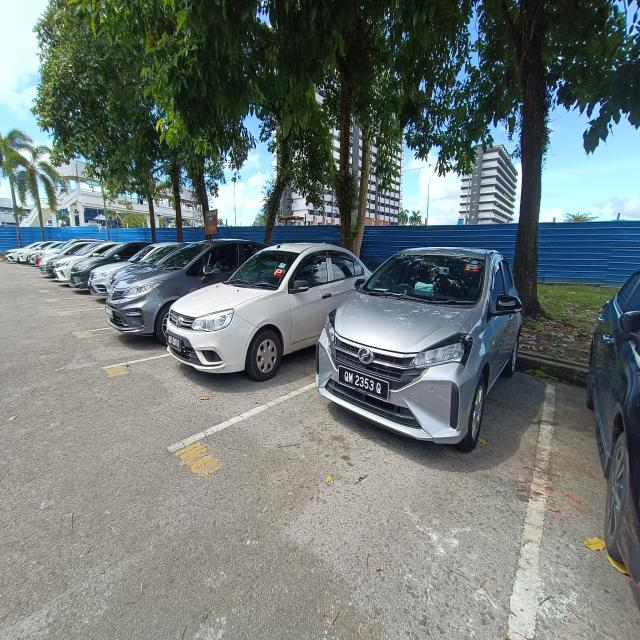PeroduaMyvi: (314, 239, 531, 471)
